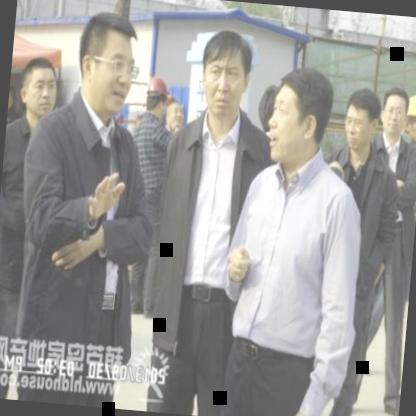head: (263, 62, 336, 174), (71, 3, 141, 115), (194, 24, 256, 126), (339, 83, 384, 159), (18, 50, 62, 119), (378, 83, 411, 141), (164, 99, 186, 140)
helmet: (142, 72, 172, 126), (402, 90, 416, 146)
